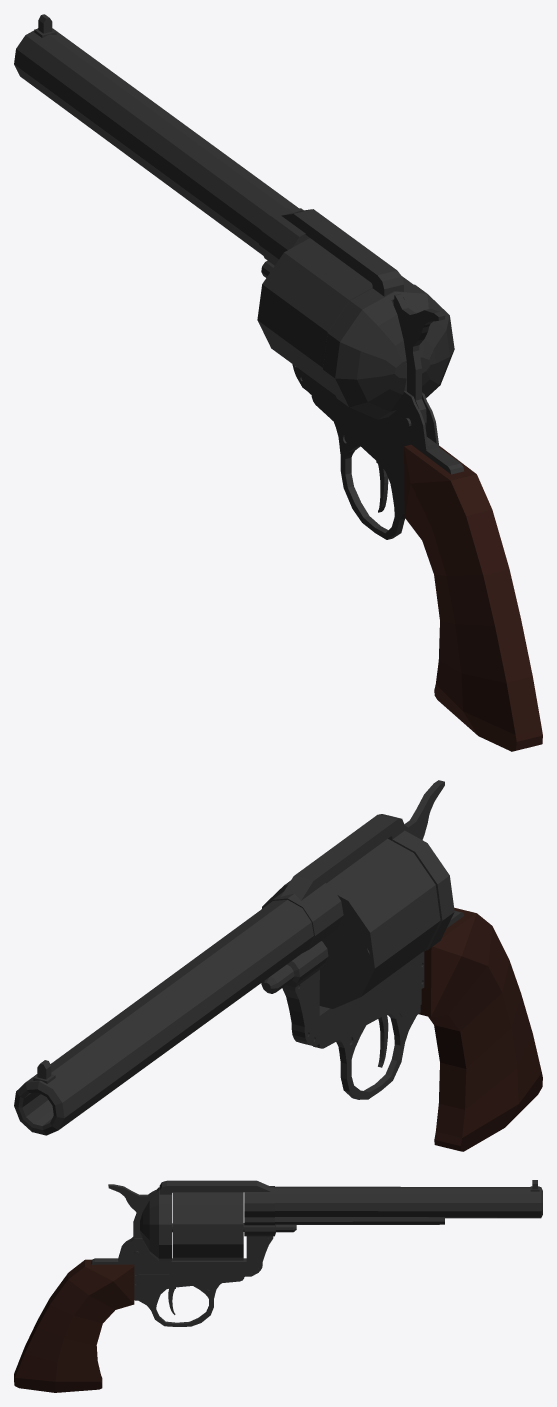
Rendered from Revolver.fbx.
The picture shows the model from 3 angles, top to bottom: view 1: azimuth 30°, elevation 25°; view 2: azimuth 150°, elevation 25°; view 3: azimuth 270°, elevation 25°; orthographic projection. The views are drawn at different scales.
Parts seen in each view (by area): view 1: Cube.001; view 2: Cube.001; view 3: Cube.001.
Part boxes in pixels (box(x1,y1,x2,y2)): Cube.001: box(14, 14, 542, 751); Cube.001: box(14, 780, 542, 1151); Cube.001: box(14, 1180, 542, 1392).
Bounding box in the file's own units: 93.53 × 291 × 667.
